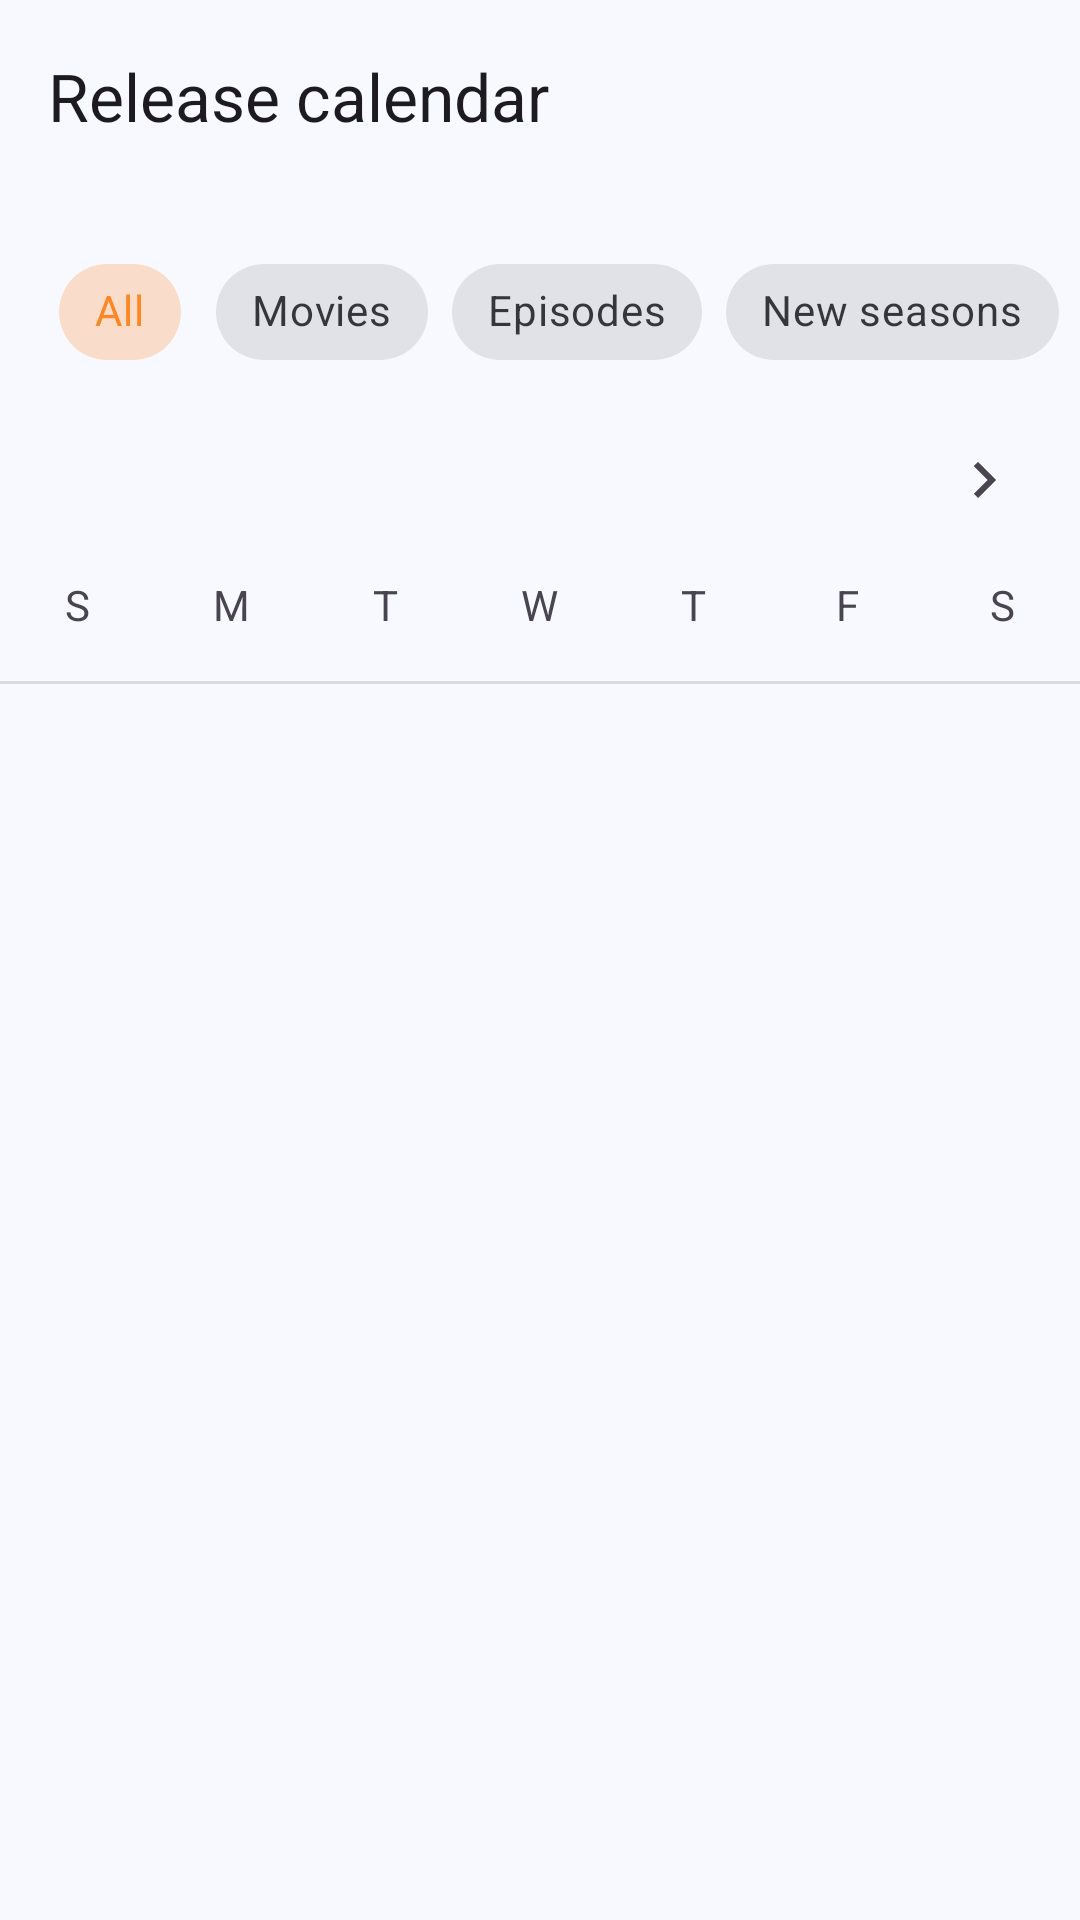

Screen size 1080×1920. Icon name, then its center in pixels as [x,y]:
Next Month: [985,480]
